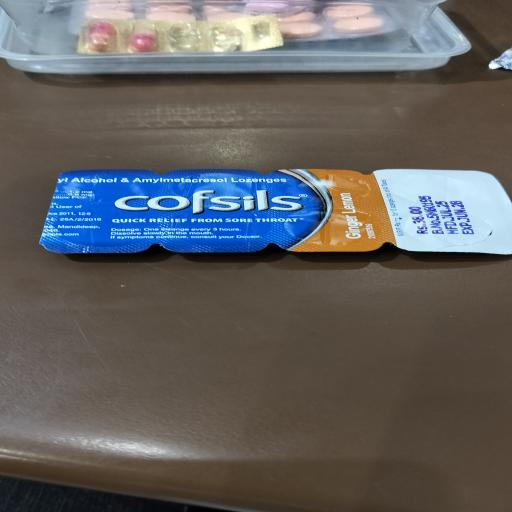cofsils: (114, 189, 303, 215)
medicine: (46, 176, 497, 246)
